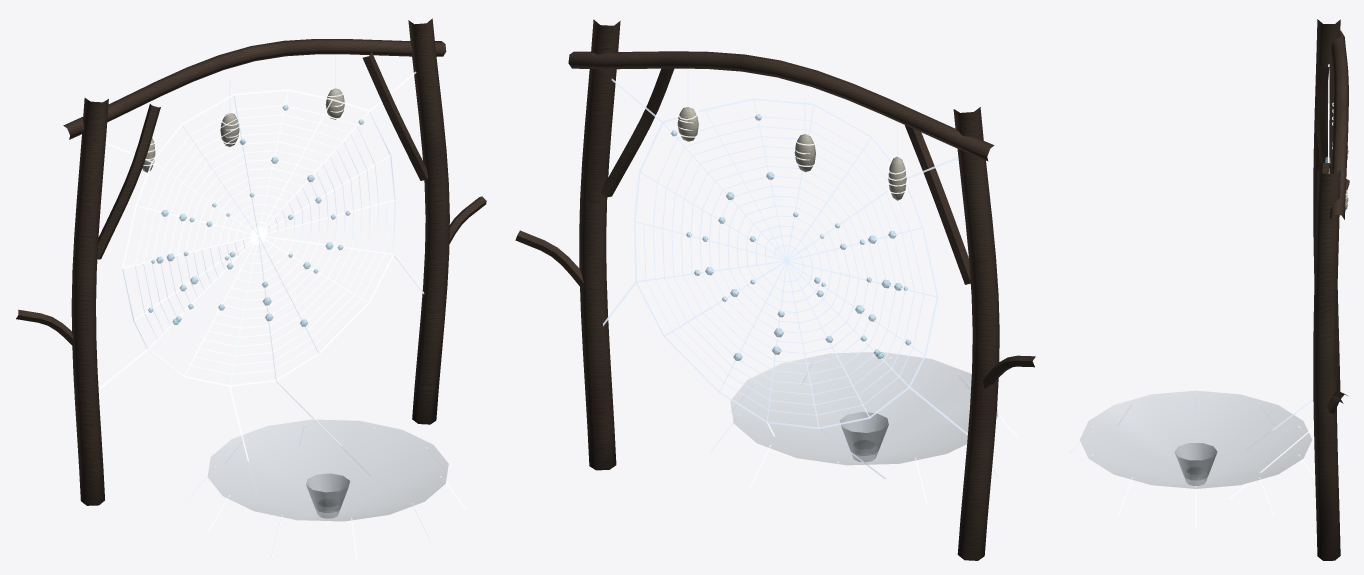
File: habitat_tisseuses.glb
3 views of the same model, side by side, from view 1: azimuth 30°, elevation 25°; view 2: azimuth 150°, elevation 25°; view 3: azimuth 270°, elevation 25° (orthographic). The views are drawn at different scales.
Parts seen in each view (by area): view 1: habitat_tisseuses, group_7; view 2: habitat_tisseuses, group_7; view 3: group_7, habitat_tisseuses.
Boxes of the visible parts, bbox=[...] form: habitat_tisseuses: bbox=[16, 18, 486, 560]; group_7: bbox=[207, 419, 448, 521]; habitat_tisseuses: bbox=[515, 19, 1035, 560]; group_7: bbox=[730, 352, 998, 465]; group_7: bbox=[1080, 390, 1311, 488]; habitat_tisseuses: bbox=[1069, 19, 1349, 560].
Size of the model in its own units: 62.49 by 52.18 by 33.77.
7 materials, 3 textured.
